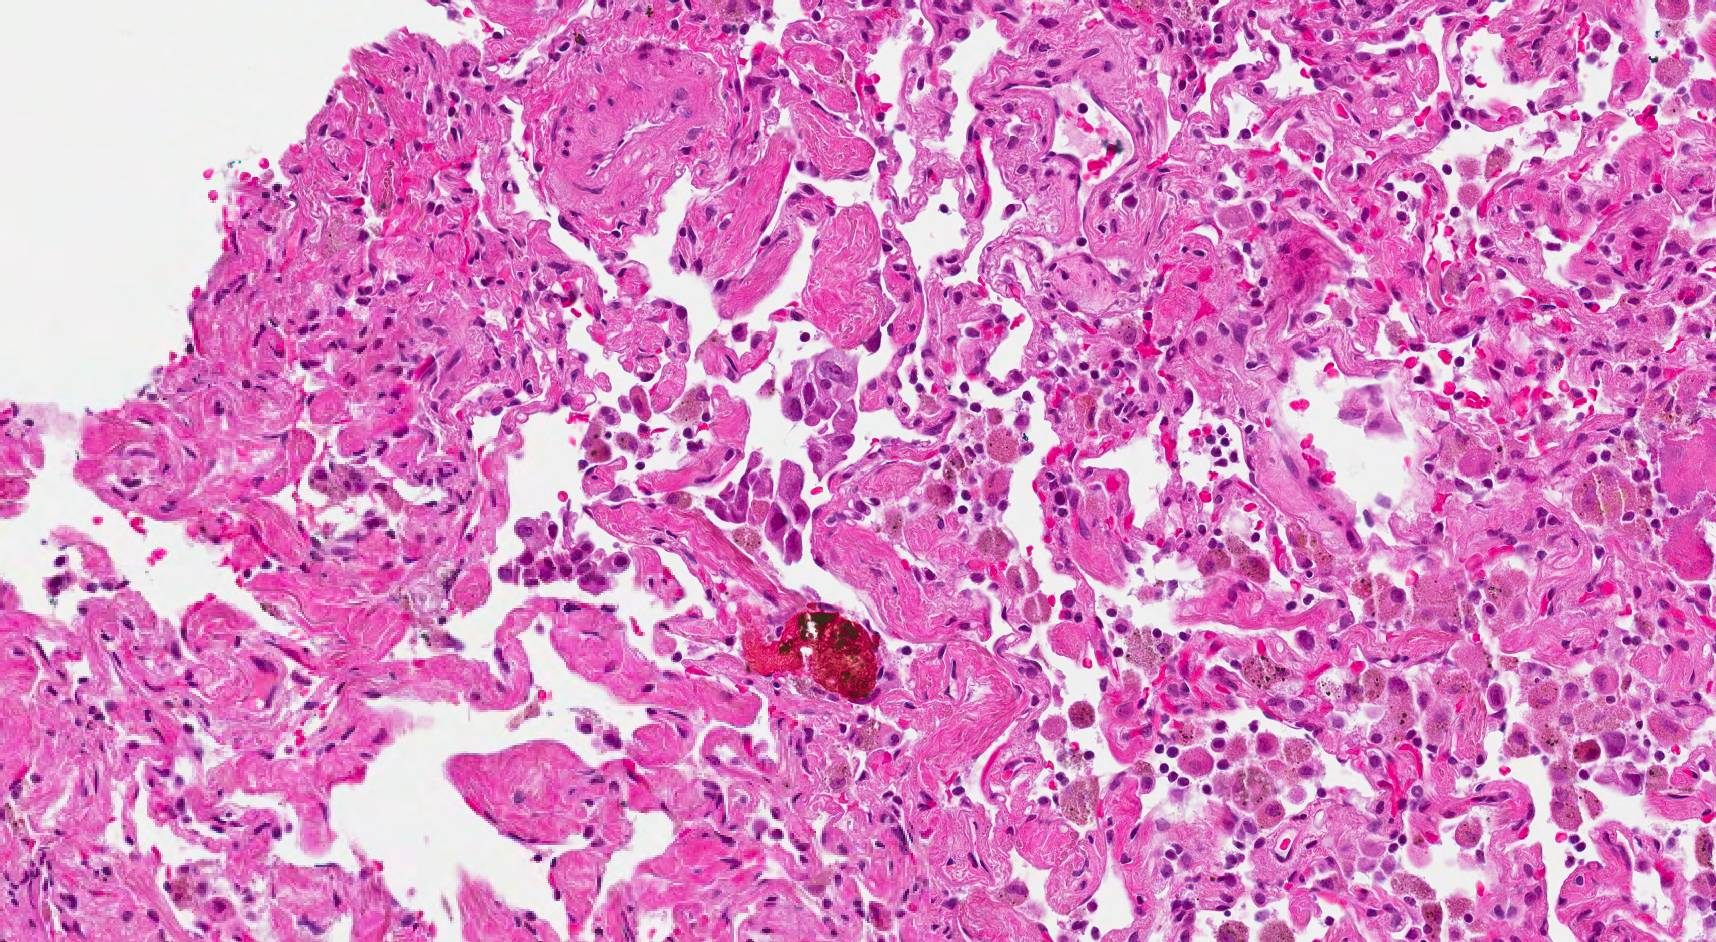stas: (708, 451, 814, 566), (777, 348, 866, 480), (496, 509, 633, 593)
